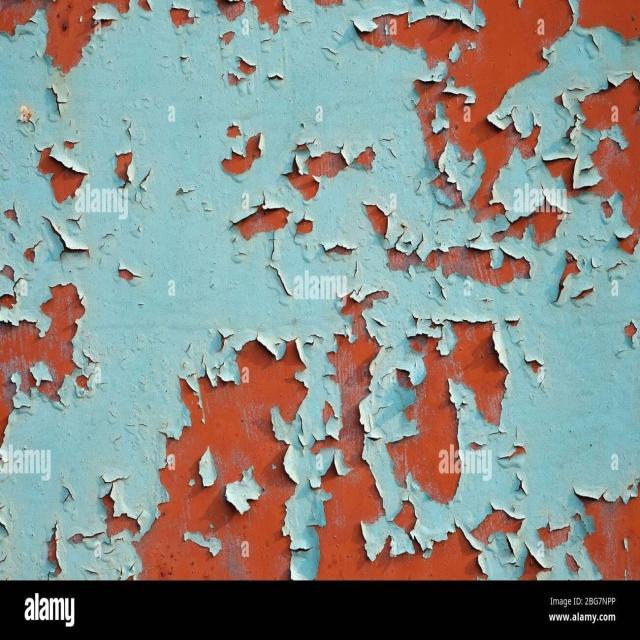peeling: (6, 14, 631, 578)
